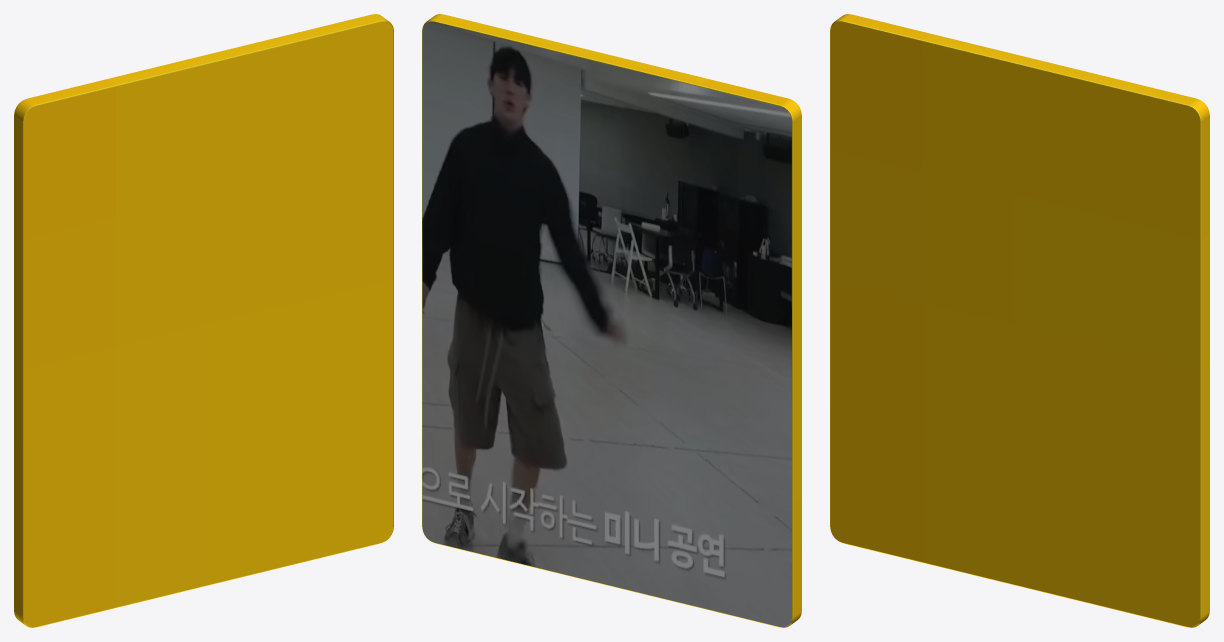
The model's file is ssvtest.glb.
The picture shows the model from 3 angles, left to right: view 1: azimuth 30°, elevation 25°; view 2: azimuth 150°, elevation 25°; view 3: azimuth 330°, elevation 25°; orthographic projection.
Parts seen in each view (by area): view 1: cardtest; view 2: cardtest; view 3: cardtest.
Part boxes in pixels (x1,y1,x2,y2): cardtest: (14, 14, 393, 627); cardtest: (422, 14, 801, 627); cardtest: (830, 14, 1209, 627).
Bounding box in the file's own units: 6.98 × 9.39 × 0.3108.
Materials: 7 (6 with a texture image).
